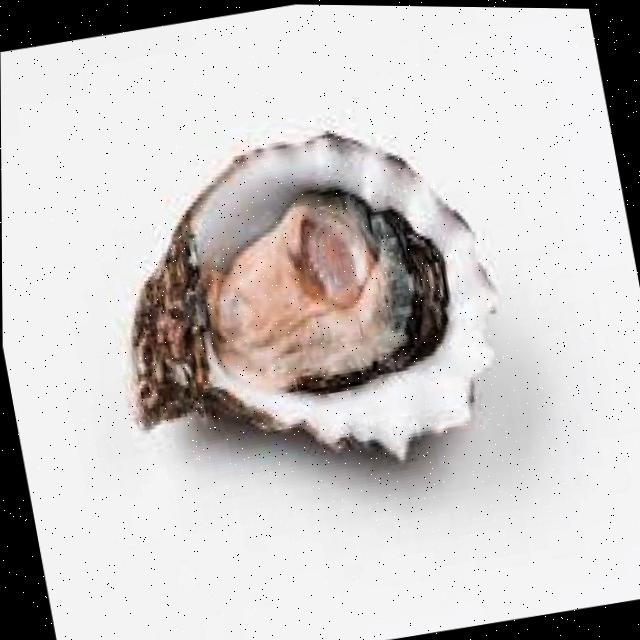Oyster-Open: (131, 132, 495, 458)
